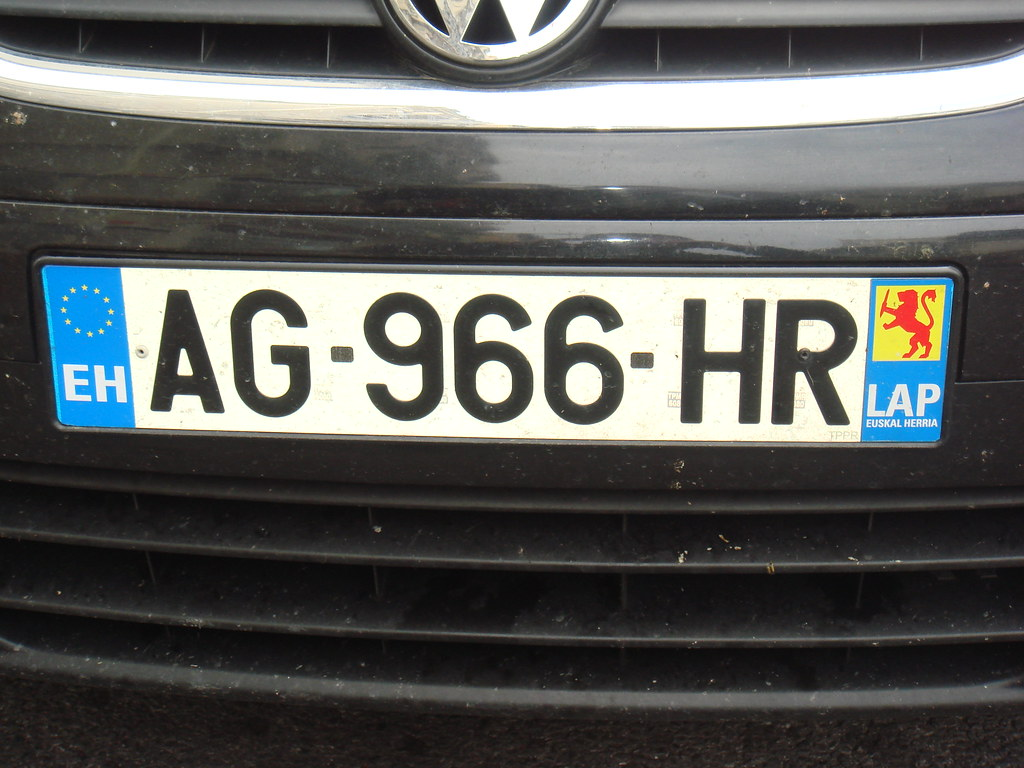license_plate: (21, 266, 954, 442)
